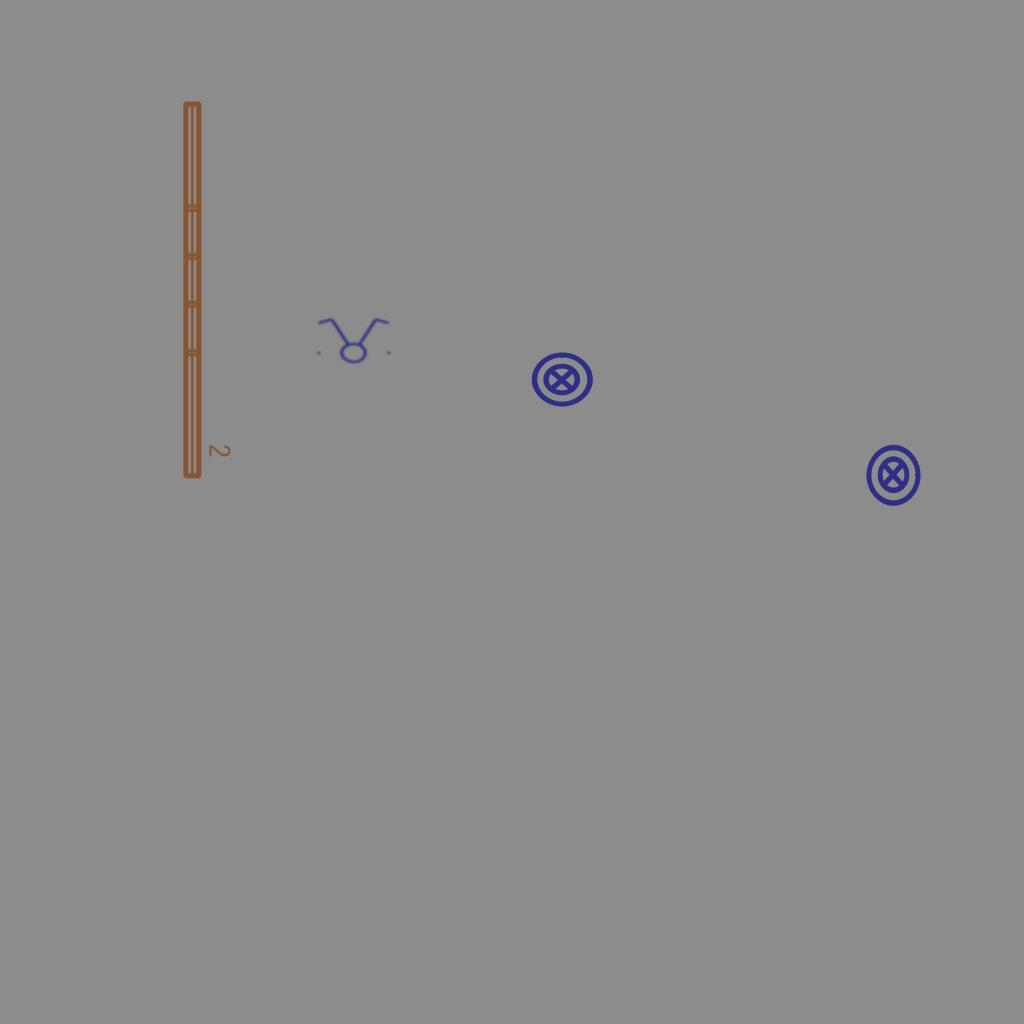Ambulanz_Pendelleuchte_LED: (177, 96, 233, 483)
Serienschalter: (311, 316, 395, 364)
Taster_beleuchtet: (860, 442, 926, 508), (529, 347, 595, 413)
